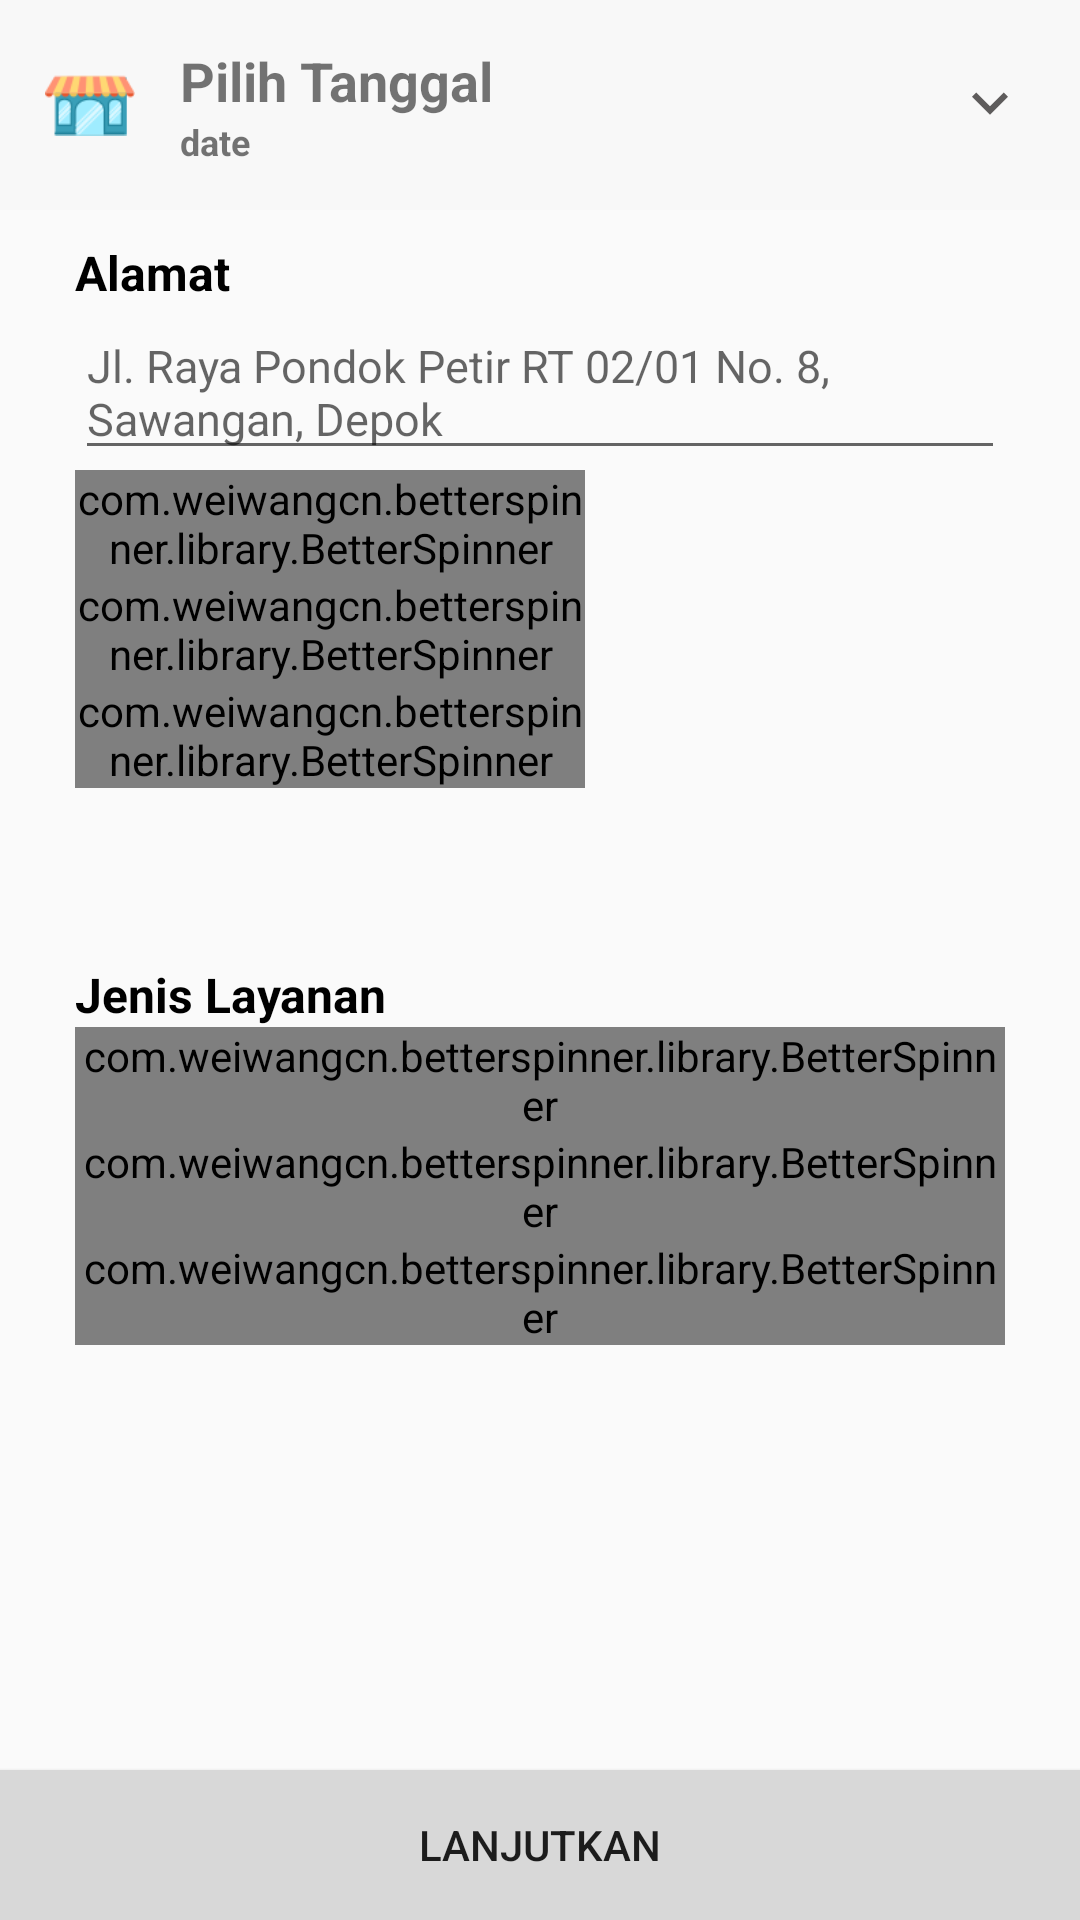

Where to tap for icons on this 1080x1920 app screen, as (x,y):
bottom arrow: (990,103)
market: (90,105)
